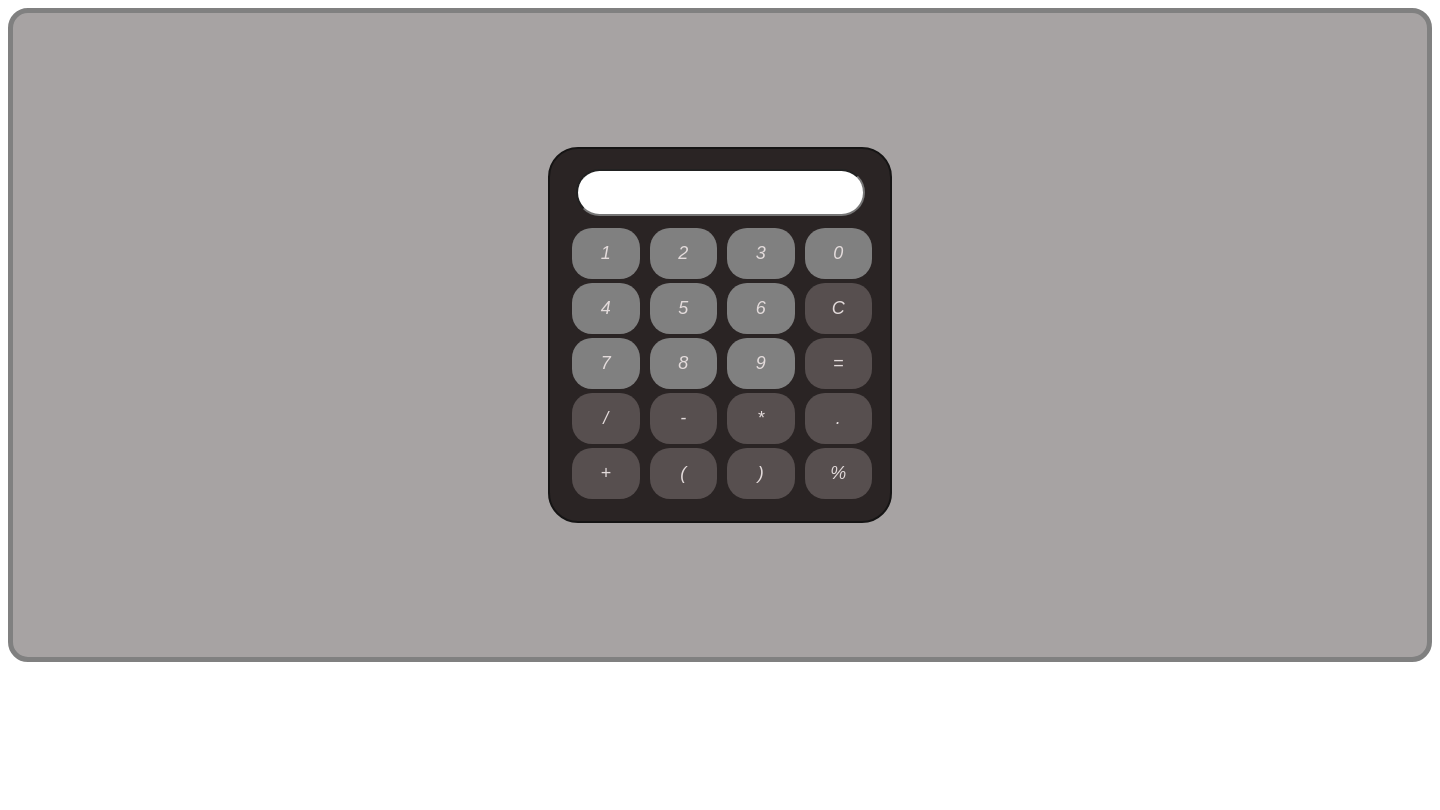
Test: Calculator component › handles plus operation
Step 1. Click the button "1" → point(606, 253), box 572,228 -> 640,279
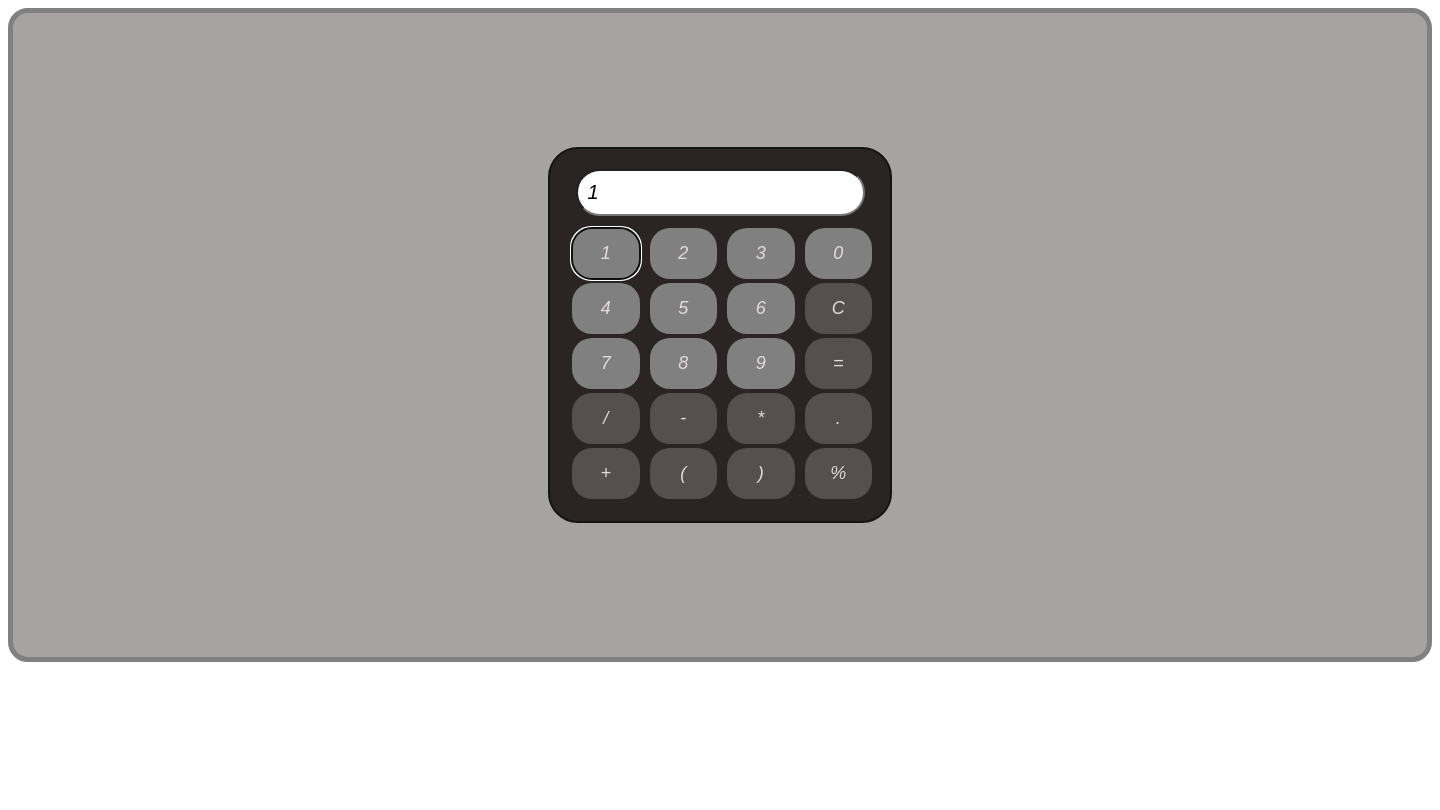
Step 2. Click the button "+" → point(606, 473), box 572,448 -> 640,499
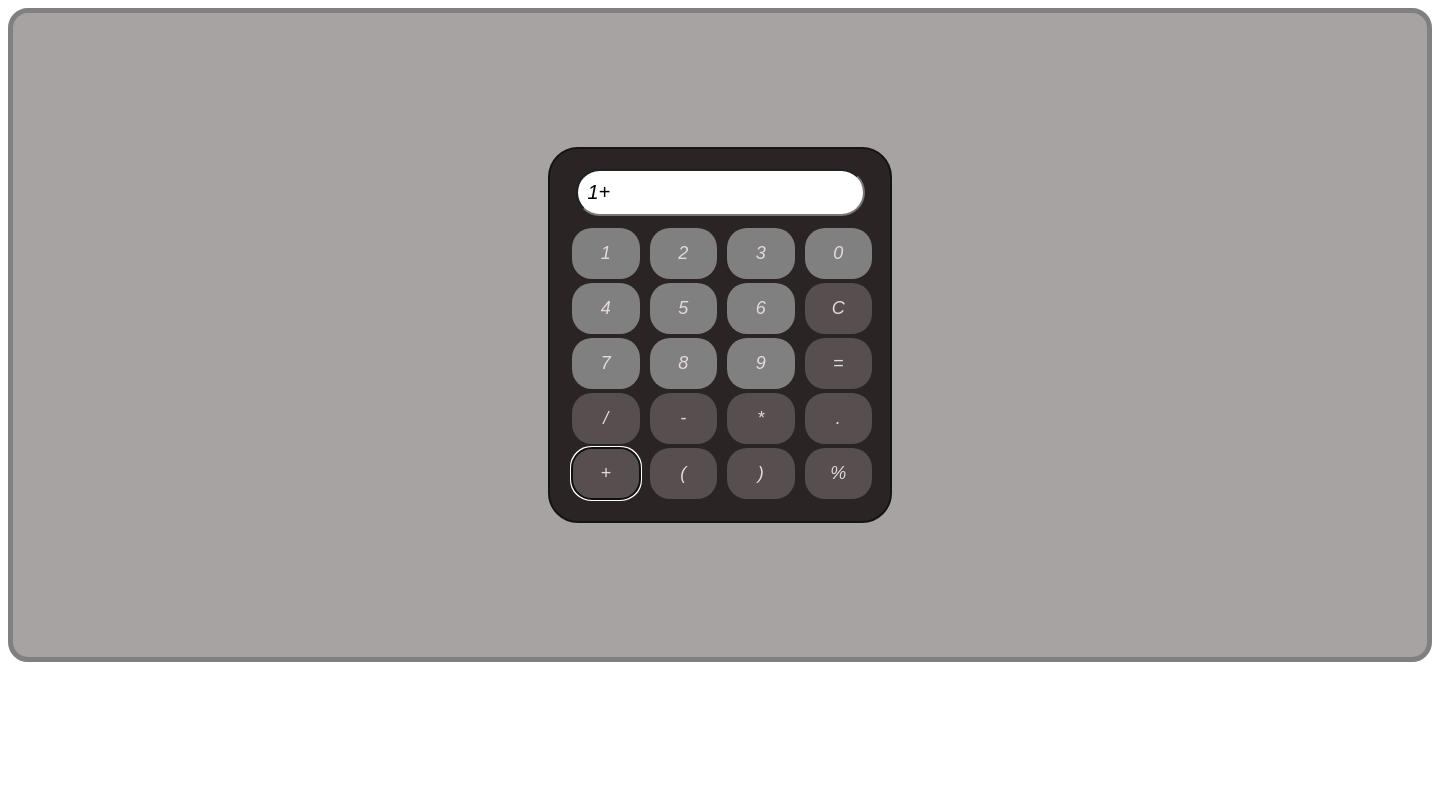
Step 3. Click the button "2" → point(683, 253), box 650,228 -> 717,279
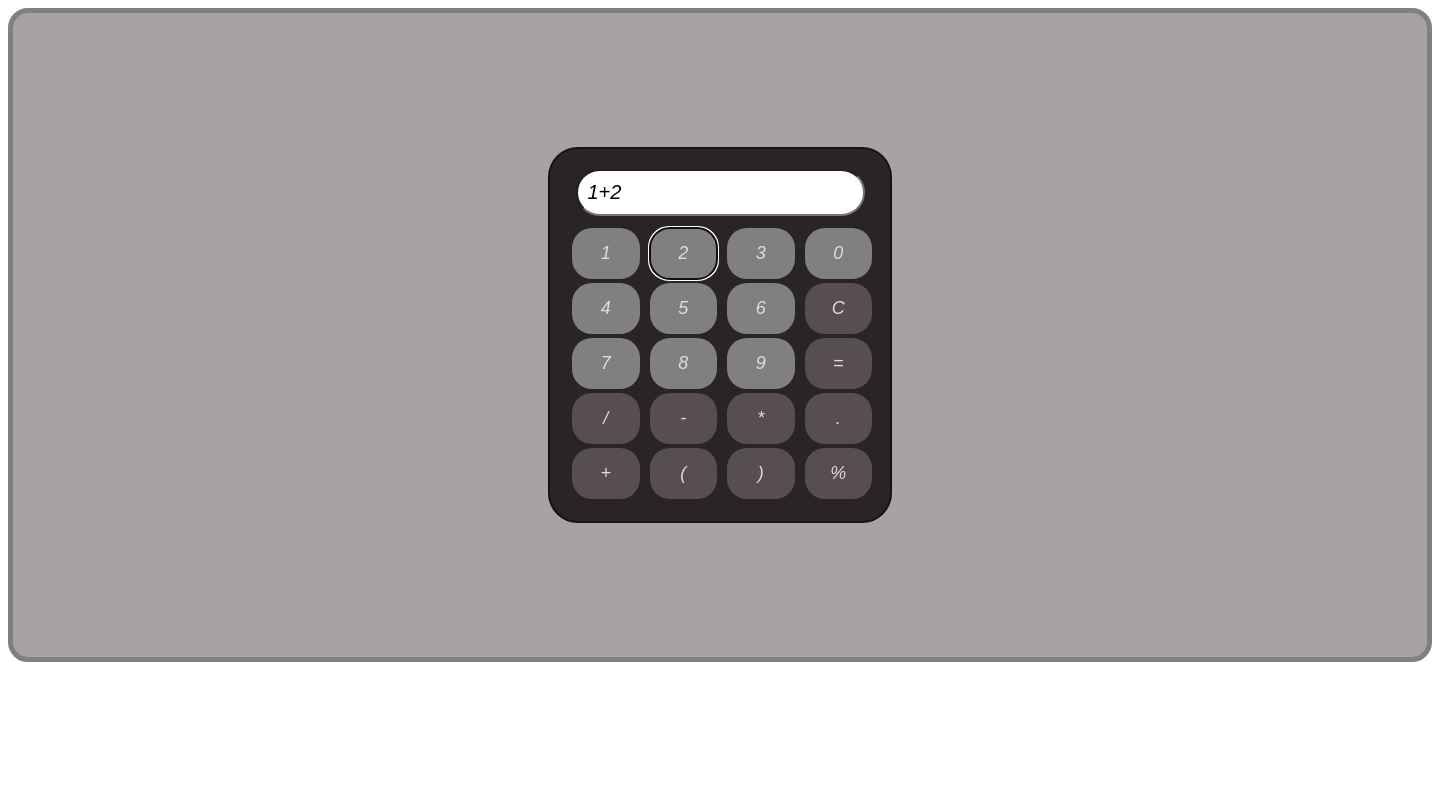
Step 4. Click the button "+" → point(606, 473), box 572,448 -> 640,499
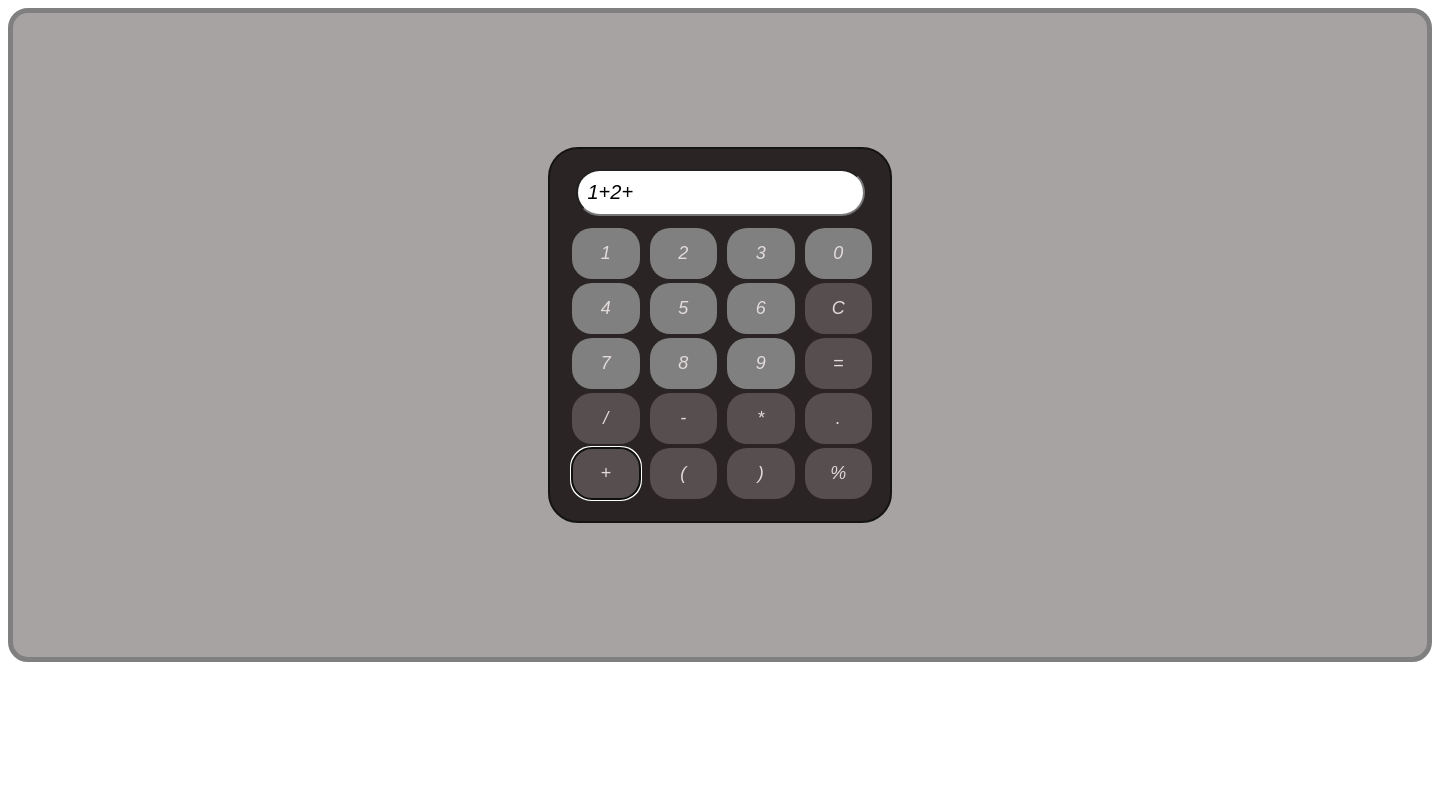
Step 5. Click the button "3" → point(761, 253), box 727,228 -> 794,279
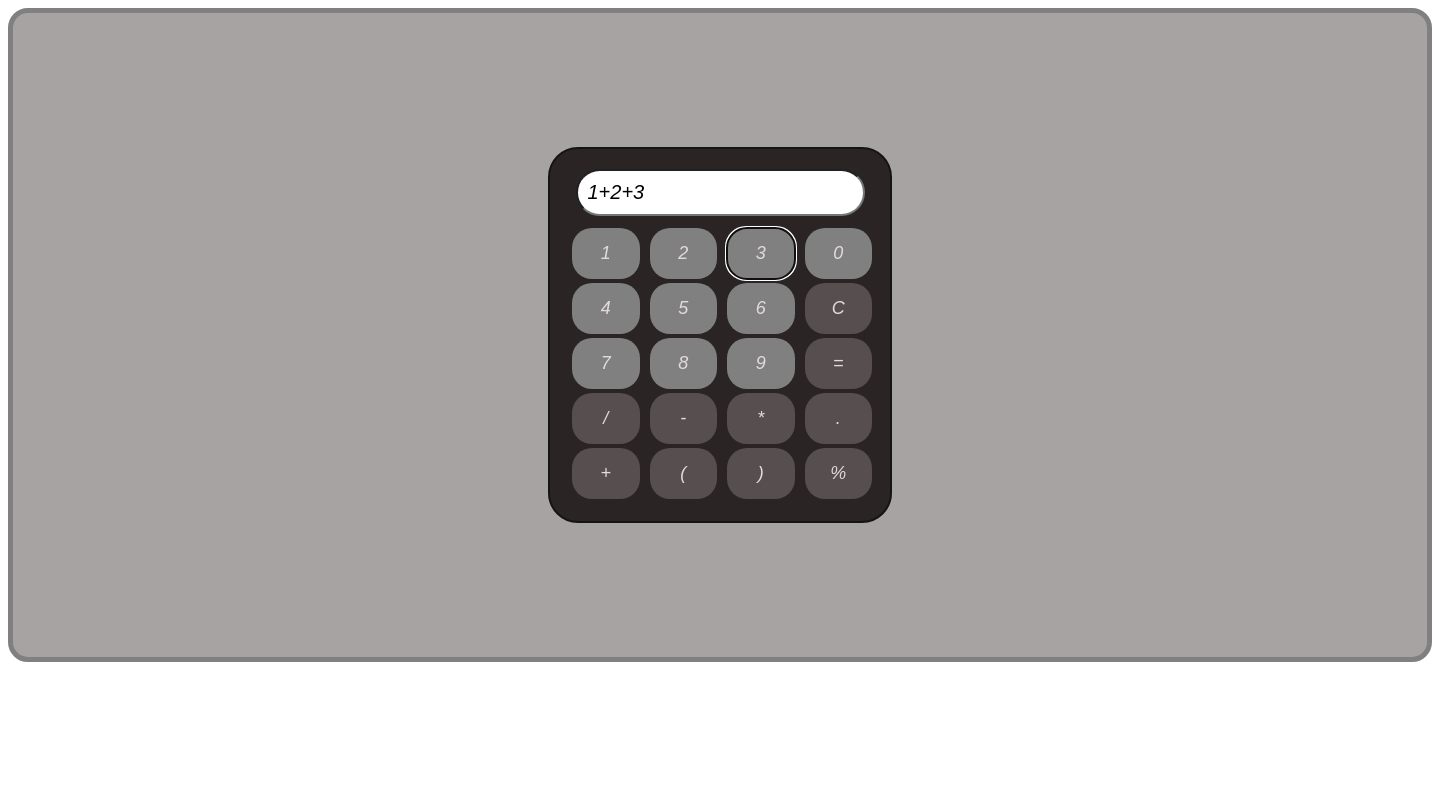
Step 6. Click the button "=" → point(838, 363), box 804,338 -> 872,389
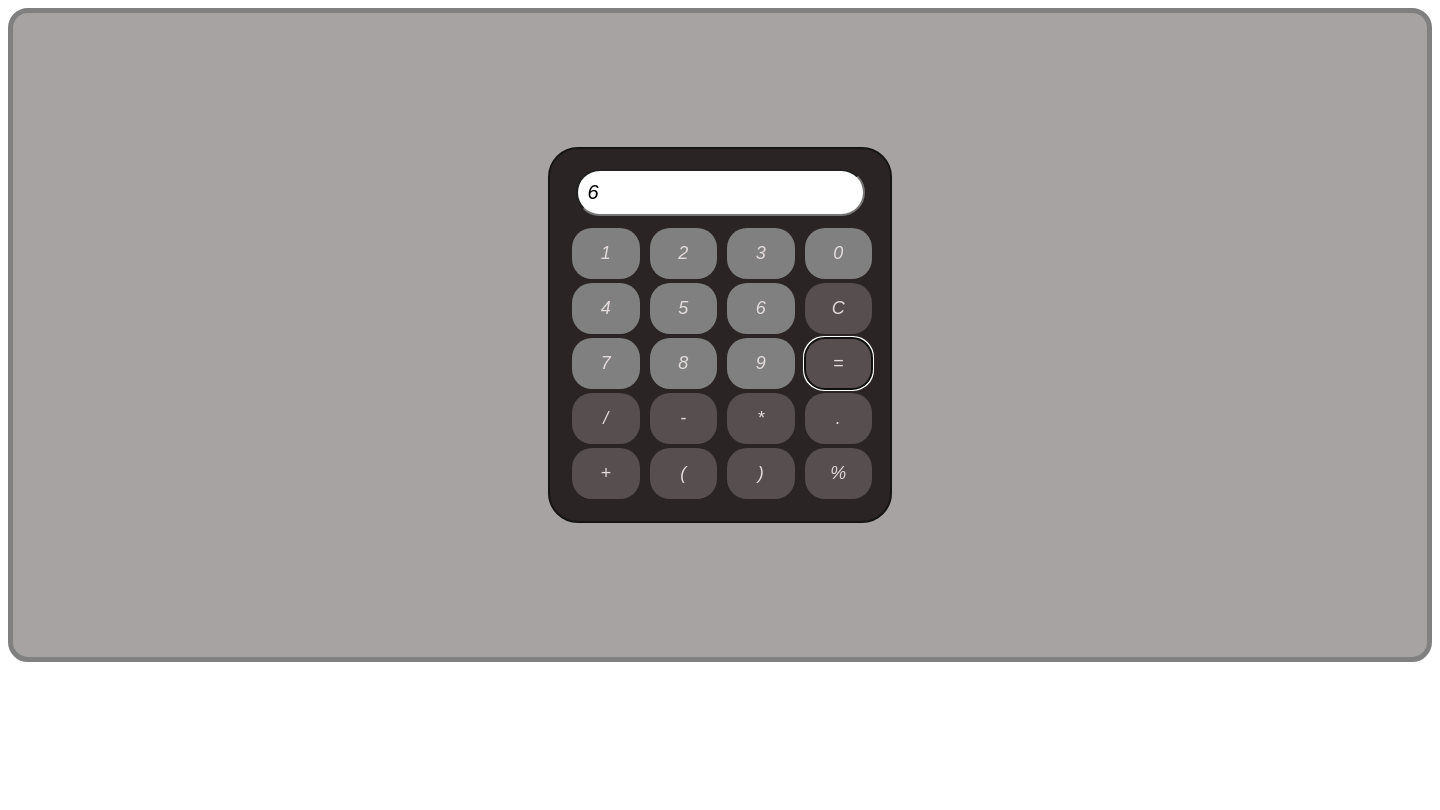
expect the field holds "6": met, box 576,169 -> 864,216
